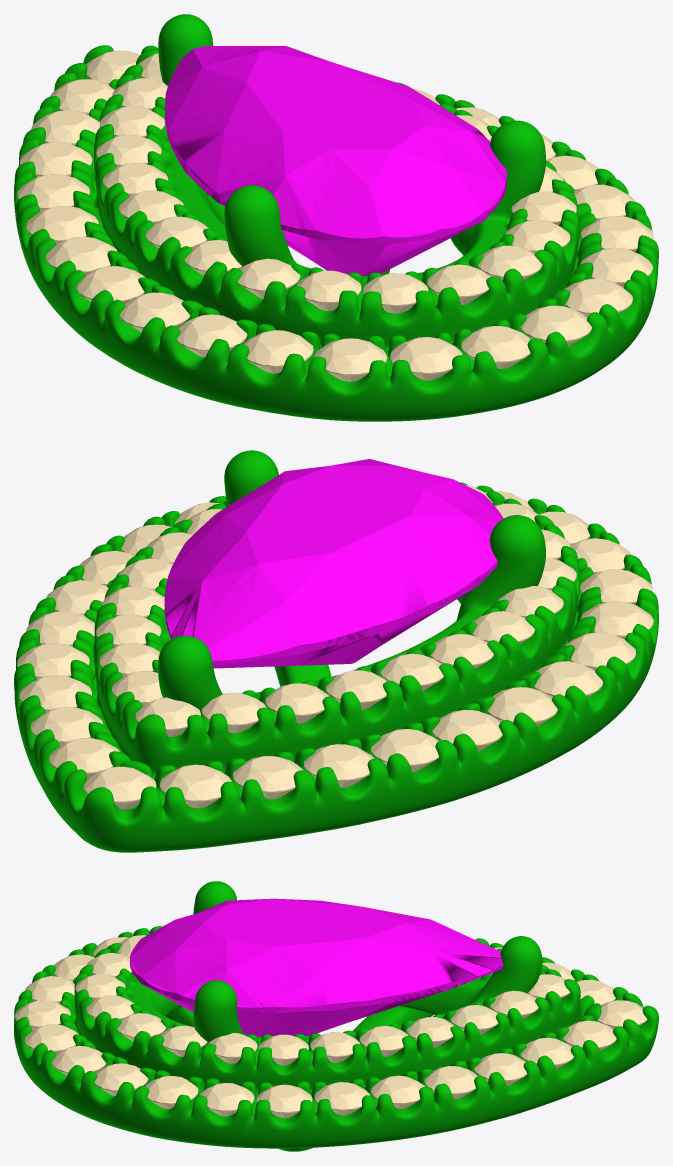
3 renders of one model, top to bottom at view 1: azimuth 30°, elevation 25°; view 2: azimuth 150°, elevation 25°; view 3: azimuth 270°, elevation 25°, orthographic. The views are drawn at different scales.
Visible parts, largest first — view 1: Metal01, Diamond_Pear, Diamond_Round.046, Diamond_Round.047, Diamond_Round.023, Diamond_Round.045, Diamond_Round.024, Diamond_Round.044, Diamond_Round.043, Diamond_Round.025, Diamond_Round.042, Diamond_Round.041 (+24 smaller); view 2: Metal01, Diamond_Pear, Diamond_Round.036, Diamond_Round.037, Diamond_Round.038, Diamond_Round.039, Diamond_Round.041, Diamond_Round.040, Diamond_Round.022, Diamond_Round.042, Diamond_Round.043, Diamond_Round.044 (+26 smaller); view 3: Metal01, Diamond_Pear, Diamond_Round.030, Diamond_Round.027, Diamond_Round.028, Diamond_Round.029, Diamond_Round.031, Diamond_Round.032, Diamond_Round.026, Diamond_Round.033, Diamond_Round.025, Diamond_Round.035 (+20 smaller).
Part boxes in pixels (x1,y1,x2,y2): Metal01: (14, 14, 658, 421); Diamond_Pear: (165, 46, 506, 276); Diamond_Round.046: (314, 338, 386, 381); Diamond_Round.047: (390, 337, 462, 380); Diamond_Round.023: (461, 326, 530, 368); Diamond_Round.045: (243, 330, 313, 373); Diamond_Round.024: (520, 305, 591, 346); Diamond_Round.044: (177, 314, 247, 357); Diamond_Round.043: (120, 292, 190, 331); Diamond_Round.025: (564, 278, 632, 317); Diamond_Round.042: (76, 266, 145, 303); Diamond_Round.041: (46, 236, 117, 275); Metal01: (14, 450, 658, 852); Diamond_Pear: (164, 459, 503, 668); Diamond_Round.036: (160, 764, 231, 808); Diamond_Round.037: (233, 756, 303, 799); Diamond_Round.038: (304, 744, 373, 787); Diamond_Round.039: (371, 729, 438, 772); Diamond_Round.041: (487, 687, 557, 726); Diamond_Round.040: (432, 709, 502, 751); Diamond_Round.022: (84, 766, 156, 809); Diamond_Round.042: (534, 661, 602, 697); Diamond_Round.043: (565, 632, 635, 670); Diamond_Round.044: (581, 601, 653, 639); Metal01: (14, 881, 658, 1151); Diamond_Pear: (130, 898, 503, 1036); Diamond_Round.030: (314, 1082, 369, 1115); Diamond_Round.027: (145, 1076, 198, 1108); Diamond_Round.028: (200, 1083, 254, 1116); Diamond_Round.029: (257, 1084, 312, 1118); Diamond_Round.031: (371, 1075, 424, 1108); Diamond_Round.032: (424, 1066, 477, 1098); Diamond_Round.026: (94, 1063, 148, 1095); Diamond_Round.033: (474, 1053, 526, 1085); Diamond_Round.025: (52, 1046, 106, 1075); Diamond_Round.035: (563, 1020, 616, 1050).
Size of the model in its own units: 12.46 by 6.62 by 17.41.
